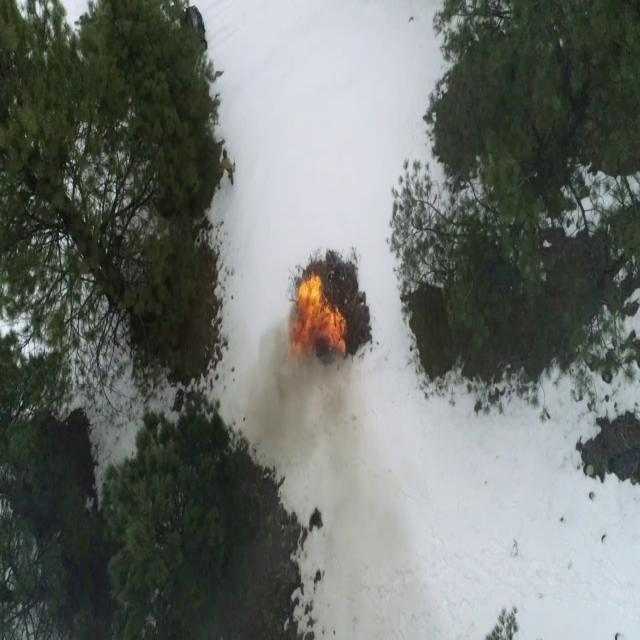fire: (292, 274, 347, 364)
